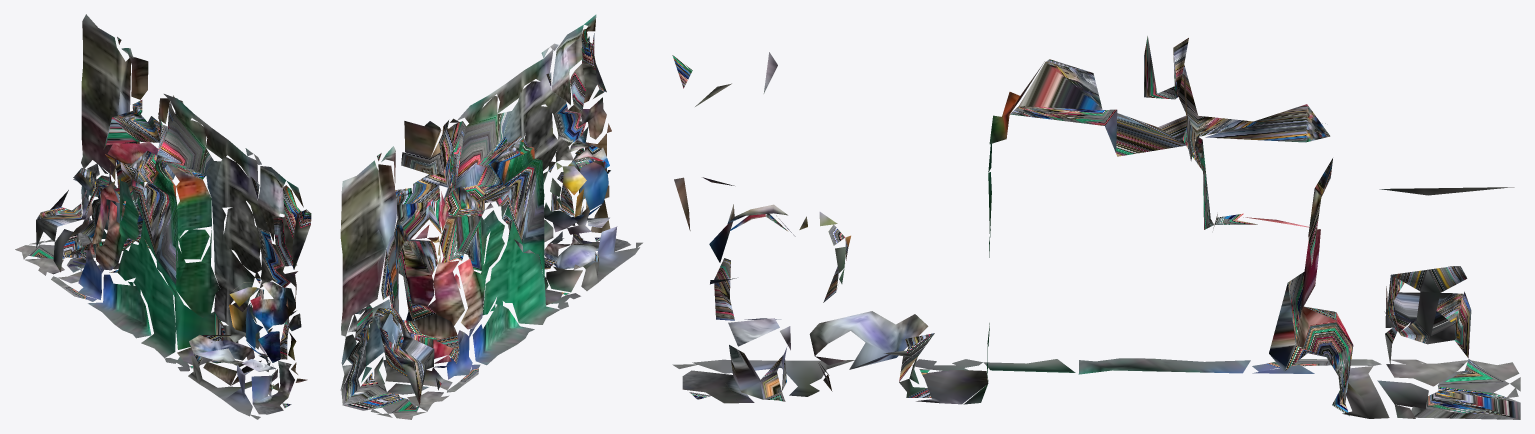
Rendered from x_crates_lo.glb.
The picture shows the model from 3 angles, left to right: view 1: azimuth 30°, elevation 25°; view 2: azimuth 150°, elevation 25°; view 3: azimuth 270°, elevation 25°; orthographic projection. The views are drawn at different scales.
Visible parts, largest first — view 1: Object_5, Object_4, Object_6; view 2: Object_5, Object_4, Object_6; view 3: Object_4, Object_5.
Boxes of the visible parts, x1=… form: Object_5: x1=15, y1=14, x2=303, y2=416; Object_4: x1=28, y1=37, x2=311, y2=419; Object_6: x1=164, y1=199, x2=261, y2=371; Object_5: x1=340, y1=14, x2=639, y2=419; Object_4: x1=341, y1=28, x2=642, y2=417; Object_6: x1=524, y1=106, x2=580, y2=309; Object_4: x1=672, y1=36, x2=1520, y2=419; Object_5: x1=674, y1=52, x2=1519, y2=418.
Bounding box in the file's own units: 1.02 × 2.09 × 4.05.
1 material, 1 textured.
